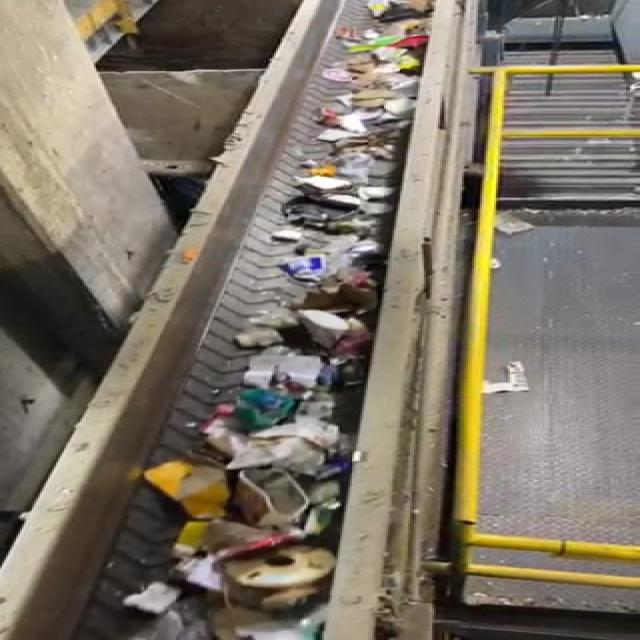paper: (144, 454, 236, 536)
